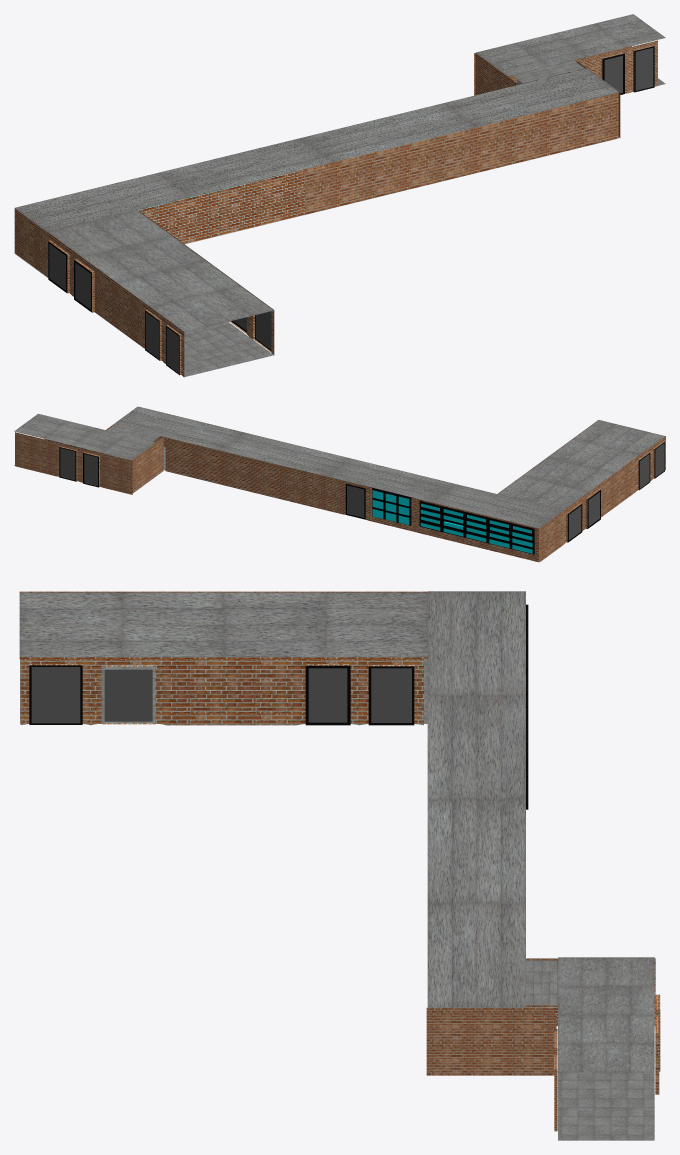
File: pasilloA 1.fbx
3 renders of one model, top to bottom at view 1: azimuth 30°, elevation 25°; view 2: azimuth 150°, elevation 25°; view 3: azimuth 270°, elevation 25°, orthographic. The views are drawn at different scales.
Visible parts, largest first — view 1: Plane.018; view 2: Plane.018; view 3: Plane.018.
Boxes of the visible parts, left/top/right/bottom form: Plane.018: left=14, top=14, right=665, bottom=377; Plane.018: left=14, top=406, right=665, bottom=562; Plane.018: left=19, top=591, right=660, bottom=1140.
Bounding box in the file's own units: 3009 × 200 × 1685.
5 materials, 2 textured.
